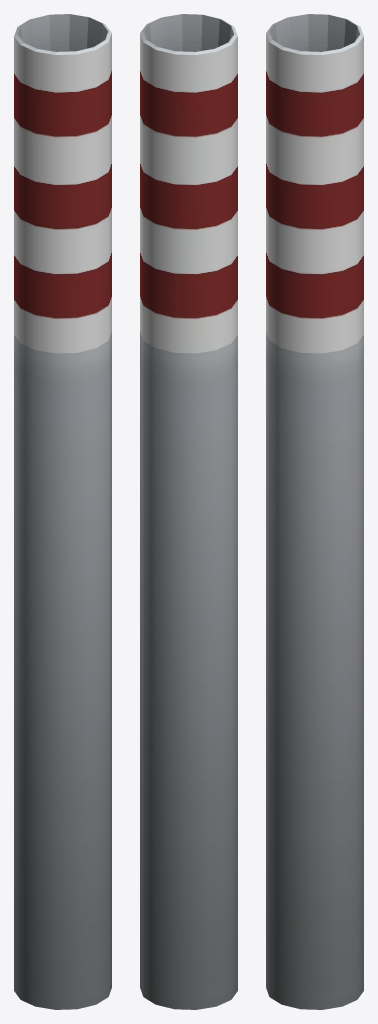
Rendered from industrial_plant_chimney_02.glb.
3 views of the same model, side by side, from view 1: azimuth 30°, elevation 25°; view 2: azimuth 150°, elevation 25°; view 3: azimuth 330°, elevation 25° (orthographic).
Visible parts, largest first — view 1: ind:chimneys_02; view 2: ind:chimneys_02; view 3: ind:chimneys_02.
Part boxes in pixels (x1,y1,x2,y2): ind:chimneys_02: (14,14,111,1009); ind:chimneys_02: (140,14,237,1009); ind:chimneys_02: (266,14,363,1009).
Size of the model in its own units: 3.33 by 35.84 by 3.24.
Materials: 1 (1 with a texture image).
